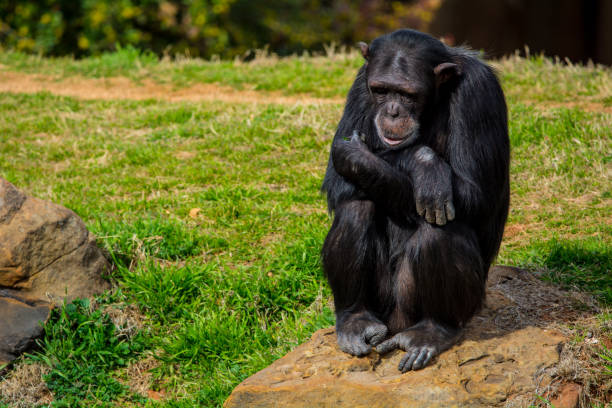chimpanzee: (341, 21, 495, 151)
